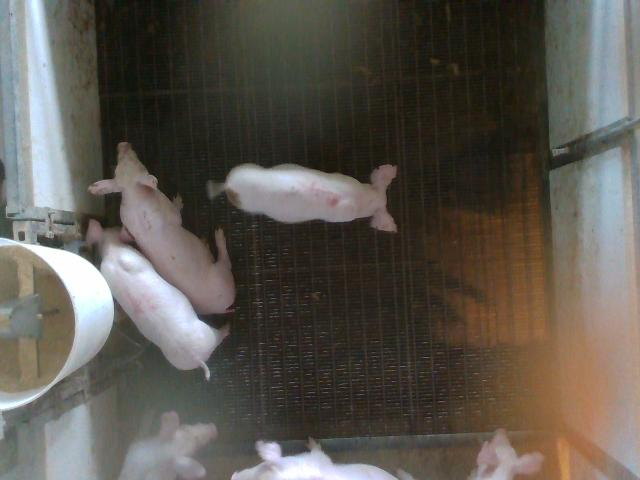pig-4: (86, 220, 229, 378)
pig-5: (208, 164, 396, 231)
